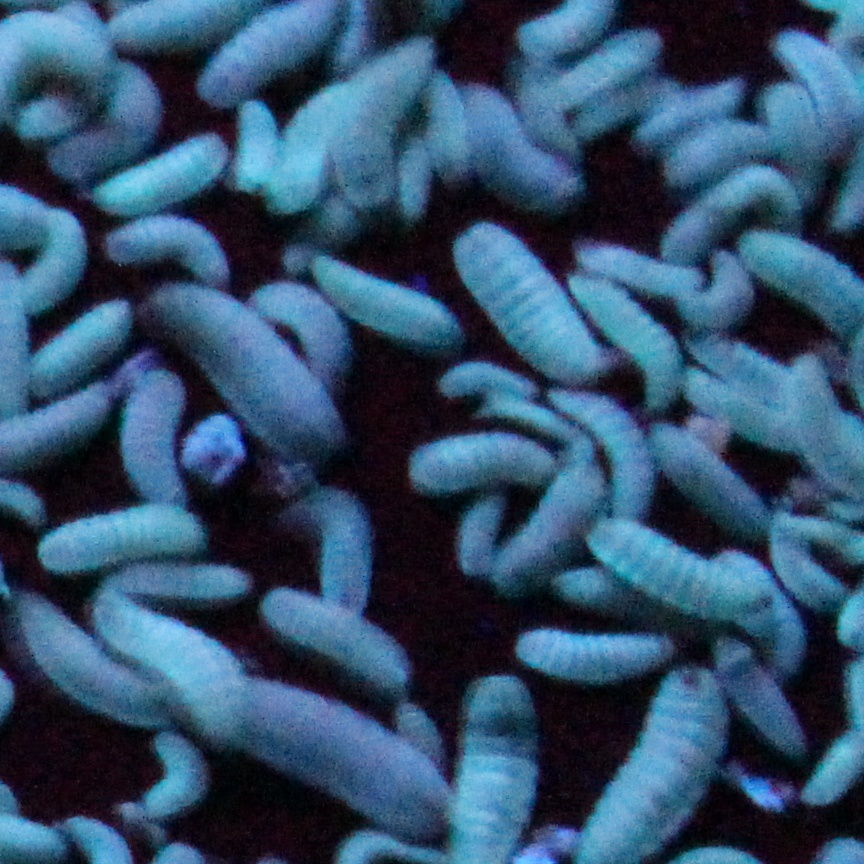larve: (192, 673, 445, 846), (141, 276, 363, 471), (441, 220, 620, 384), (3, 586, 169, 724), (596, 506, 781, 629), (89, 586, 254, 720), (330, 26, 436, 202), (260, 586, 418, 691), (652, 415, 778, 540), (265, 473, 378, 609), (303, 247, 461, 344), (456, 84, 576, 211), (754, 26, 860, 167), (47, 55, 158, 189), (556, 382, 654, 529), (490, 467, 609, 587), (249, 276, 360, 393), (27, 504, 214, 569), (714, 553, 812, 676), (714, 638, 809, 764), (92, 131, 230, 215), (507, 620, 681, 680), (23, 296, 136, 387), (261, 86, 345, 207), (125, 726, 218, 831), (121, 369, 192, 506), (574, 235, 710, 304), (552, 24, 658, 109), (620, 71, 740, 146), (101, 220, 232, 286), (416, 433, 561, 491), (16, 200, 85, 307), (569, 75, 685, 135), (420, 62, 476, 178), (654, 126, 774, 173), (440, 489, 510, 567), (100, 562, 234, 602), (394, 144, 443, 216), (232, 104, 272, 182)
